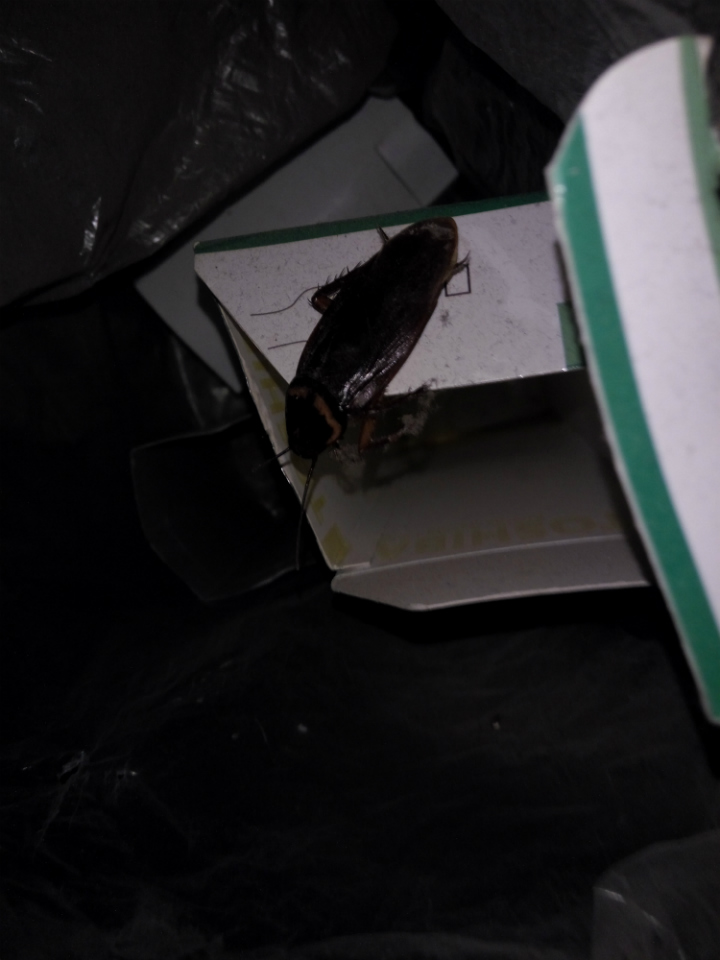cockroach: (169, 141, 487, 572)
